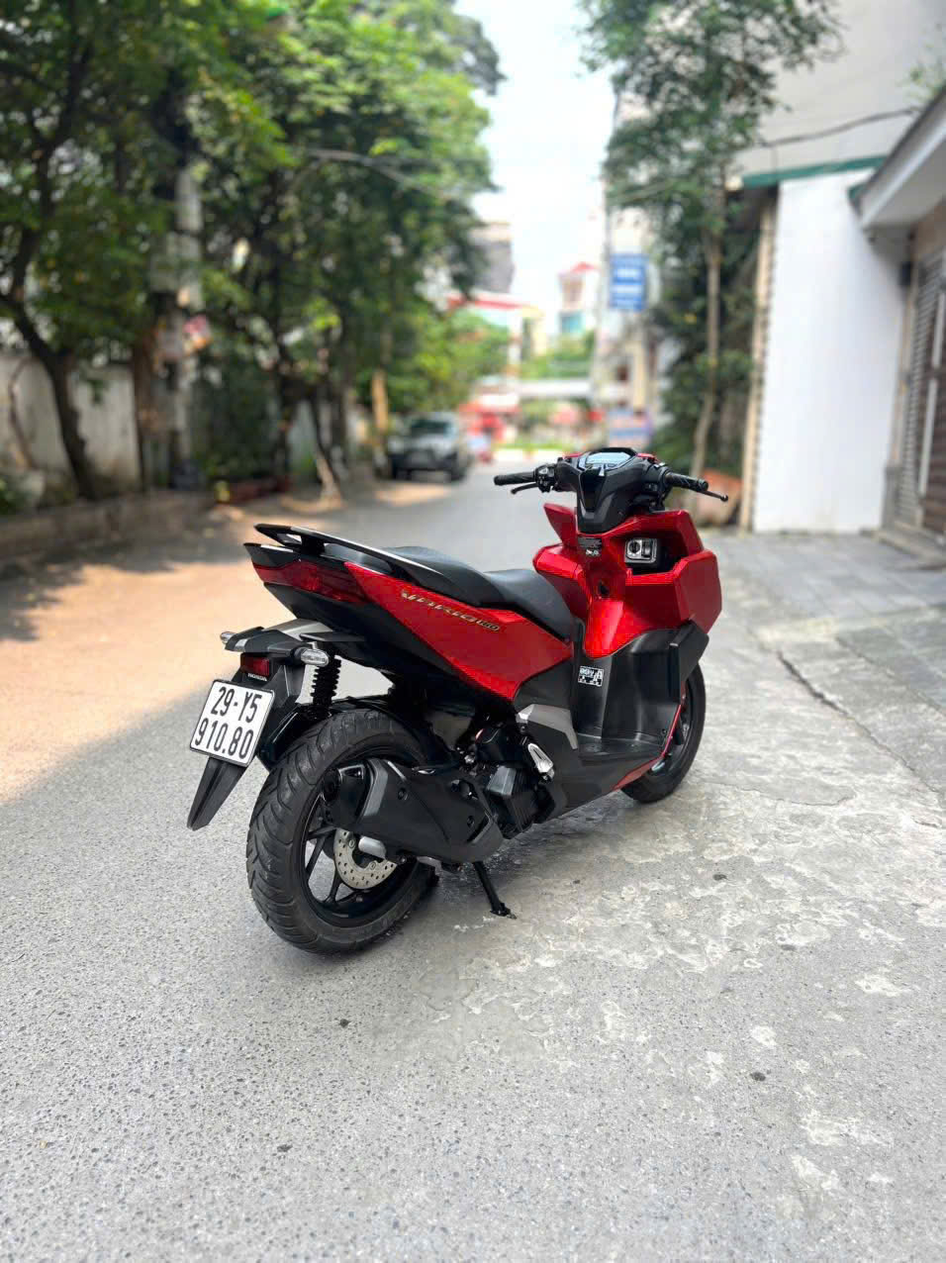Bien-so: (192, 676, 273, 768)
